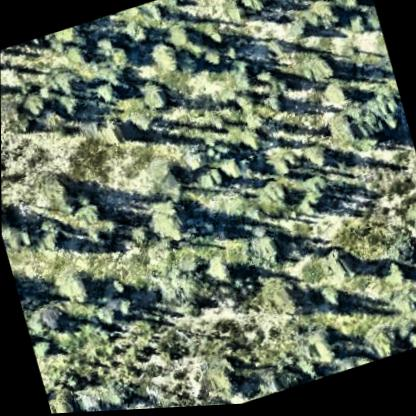tree-top: (145, 188, 200, 249), (36, 64, 91, 121), (202, 350, 252, 403), (50, 261, 98, 313), (325, 102, 373, 154), (255, 272, 301, 324), (297, 318, 344, 368), (168, 258, 213, 308), (56, 171, 100, 222), (145, 146, 192, 193), (254, 177, 299, 225), (133, 73, 176, 119), (364, 317, 406, 363), (296, 45, 336, 90), (302, 0, 346, 39), (176, 134, 217, 174), (251, 223, 290, 263), (322, 245, 359, 287), (301, 171, 338, 210), (234, 122, 270, 161), (148, 40, 183, 76), (195, 42, 230, 77), (38, 221, 70, 257), (387, 236, 416, 275), (305, 142, 336, 178), (214, 155, 247, 187), (313, 282, 345, 314), (50, 381, 81, 414), (391, 287, 416, 324), (91, 78, 120, 108), (93, 212, 122, 242), (236, 0, 277, 21), (342, 13, 371, 41), (31, 335, 58, 364), (110, 45, 137, 73), (93, 35, 120, 61), (112, 295, 138, 322), (334, 0, 370, 19), (398, 200, 416, 233), (401, 326, 416, 354), (1, 193, 8, 219)
